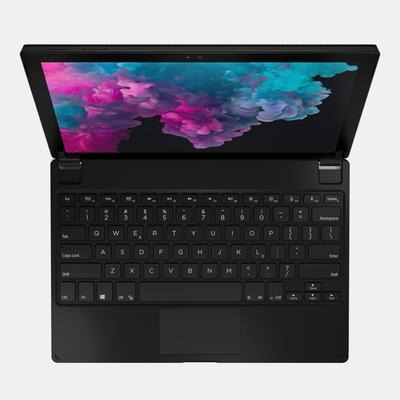keyboard: (57, 192, 345, 313)
